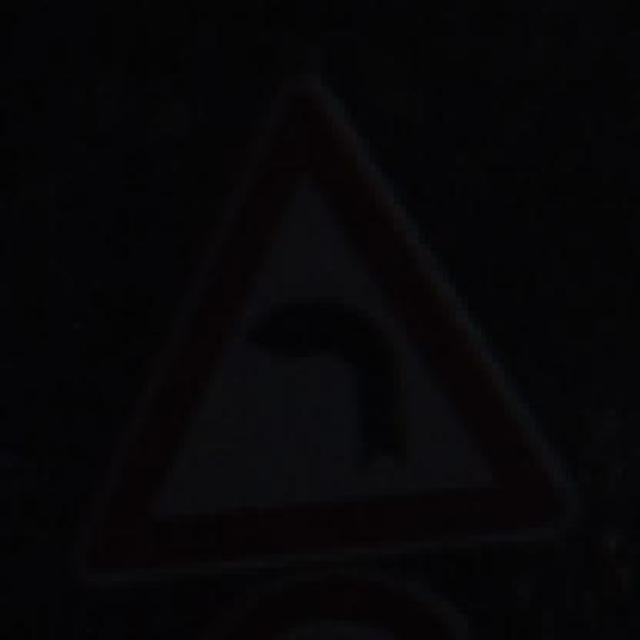Dangerous Left Curve Ahead: (80, 72, 585, 574)
